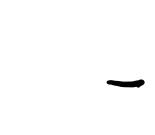minus: (105, 77, 144, 88)
